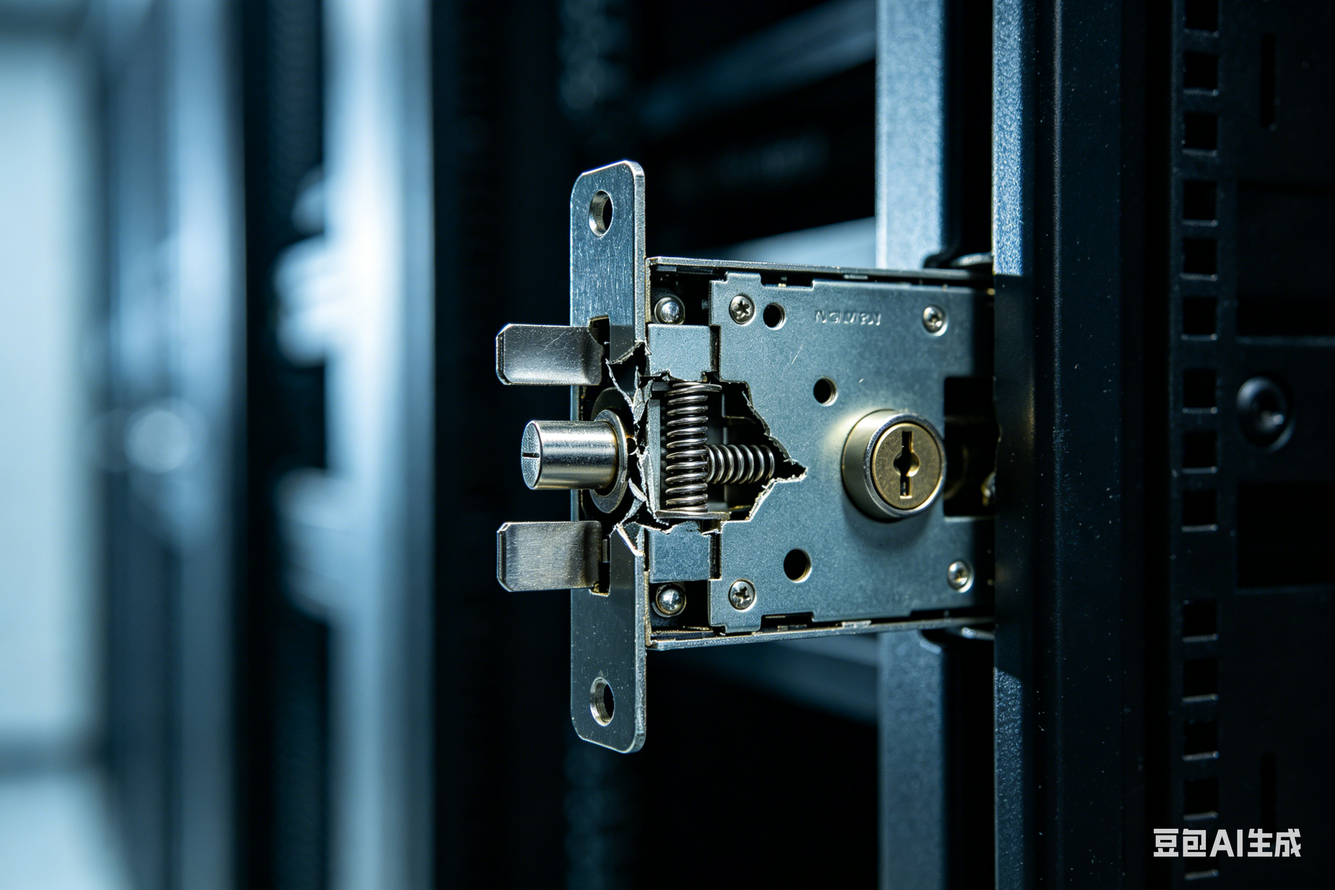BadLock: (565, 177, 817, 534)
